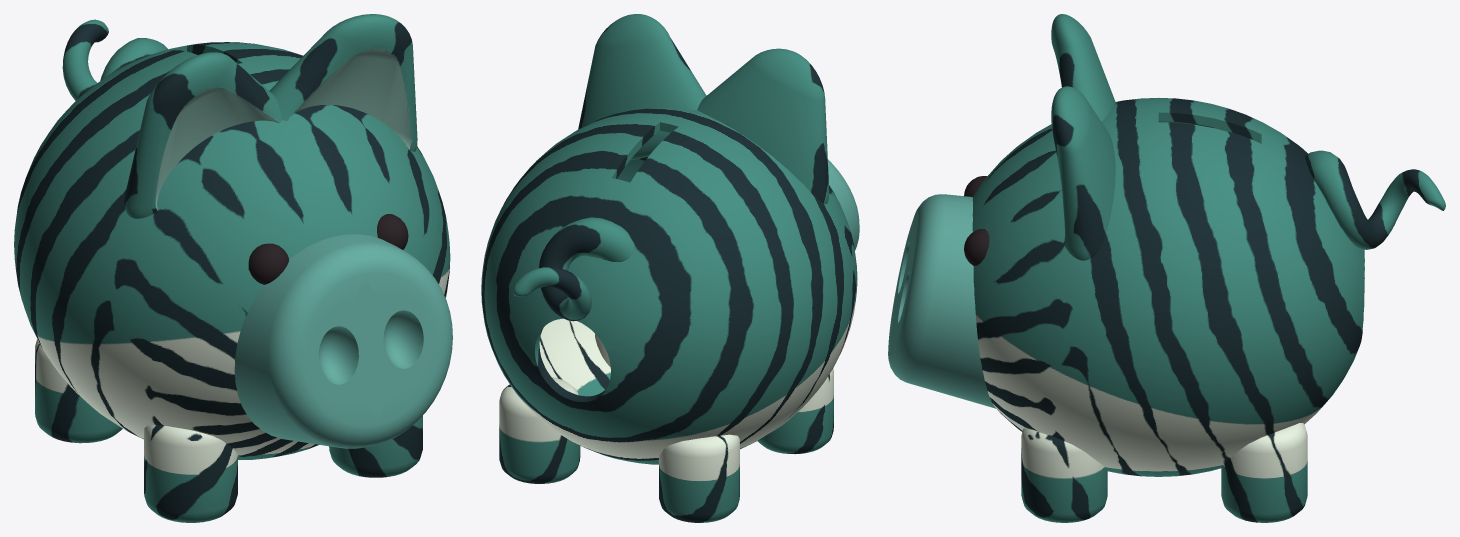
File: raptor-complete.fbx
The picture shows the model from 3 angles, left to right: view 1: azimuth 30°, elevation 25°; view 2: azimuth 150°, elevation 25°; view 3: azimuth 270°, elevation 25°; orthographic projection. The views are drawn at different scales.
Visible parts, largest first — view 1: Body, Snout, Ears, Legs, Tail, Eyes; view 2: Body, Ears, Legs, Tail, Snout; view 3: Body, Snout, Legs, Ears, Tail, Eyes.
Part boxes in pixels (x1,y1,x2,y2): Body: (14, 42, 450, 459); Snout: (234, 234, 452, 448); Ears: (124, 14, 417, 218); Legs: (35, 339, 422, 522); Tail: (62, 19, 167, 100); Eyes: (248, 214, 408, 284); Body: (481, 107, 857, 464); Ears: (578, 14, 829, 203); Legs: (499, 334, 833, 522); Tail: (513, 217, 634, 321); Snout: (828, 159, 859, 250); Body: (972, 97, 1364, 476); Snout: (888, 194, 996, 408); Legs: (1021, 423, 1307, 522); Ears: (1051, 14, 1115, 260); Tail: (1305, 150, 1445, 249); Eyes: (964, 176, 989, 265).
Bounding box in the file's own units: 1200 × 1397 × 1708.
Materials: 3 (2 with a texture image).
